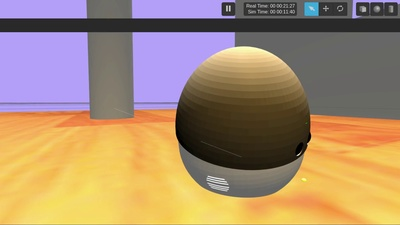mira_robot: (176, 46, 311, 198)
